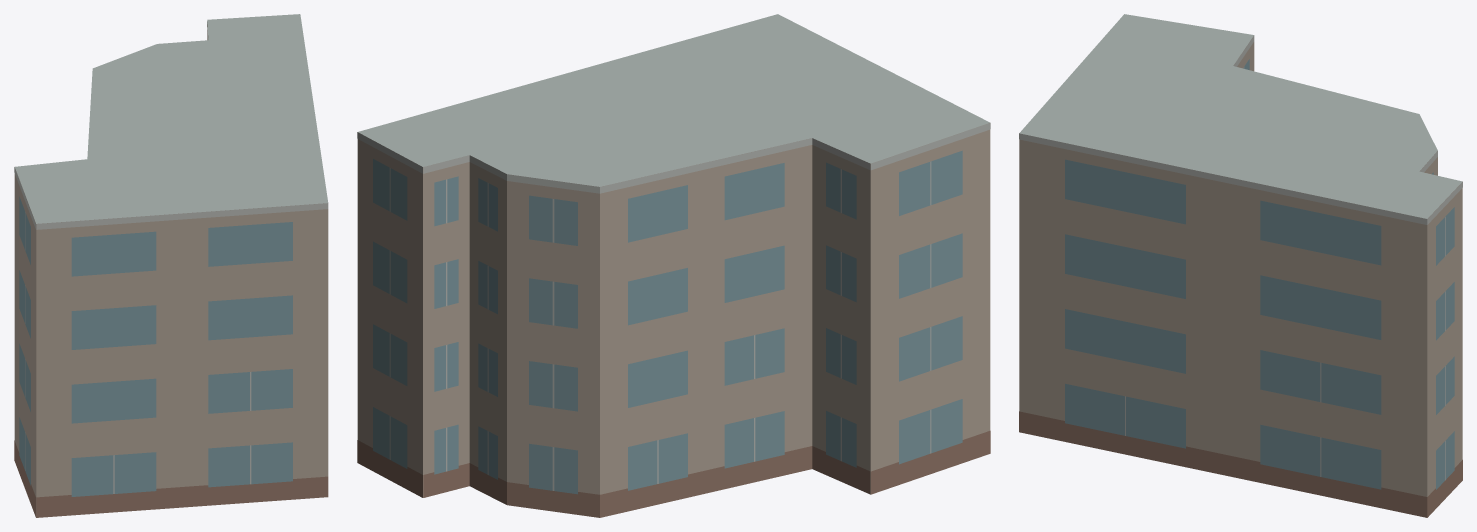
File: survey-upis-32596147.glb
3 views of the same model, side by side, from view 1: azimuth 30°, elevation 25°; view 2: azimuth 150°, elevation 25°; view 3: azimuth 270°, elevation 25° (orthographic). The views are drawn at different scales.
Parts seen in each view (by area): view 1: survey-upis-32596147.tmp; view 2: survey-upis-32596147.tmp; view 3: survey-upis-32596147.tmp.
Boxes of the visible parts, <box> form: survey-upis-32596147.tmp: <box>14,14,328,517</box>; survey-upis-32596147.tmp: <box>357,14,990,517</box>; survey-upis-32596147.tmp: <box>1019,14,1462,517</box>.
Bounding box in the file's own units: 17.51 × 11.9 × 16.02.
